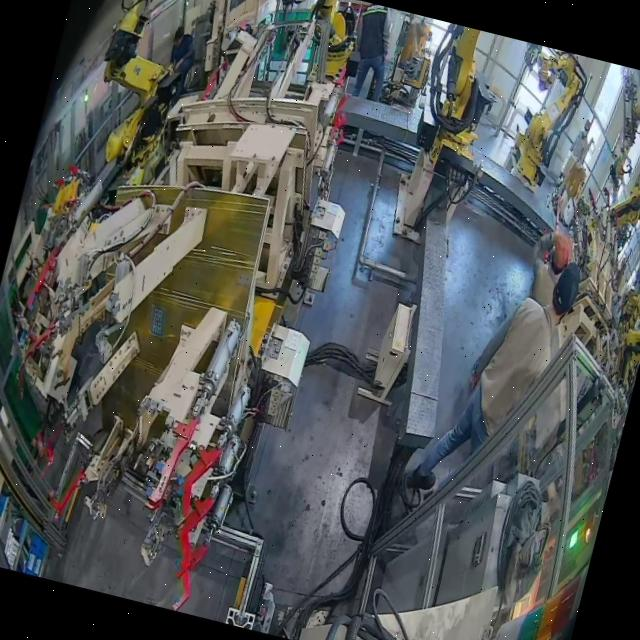Person: (401, 234, 585, 518), (342, 2, 402, 102), (156, 24, 202, 110), (558, 115, 594, 184)
